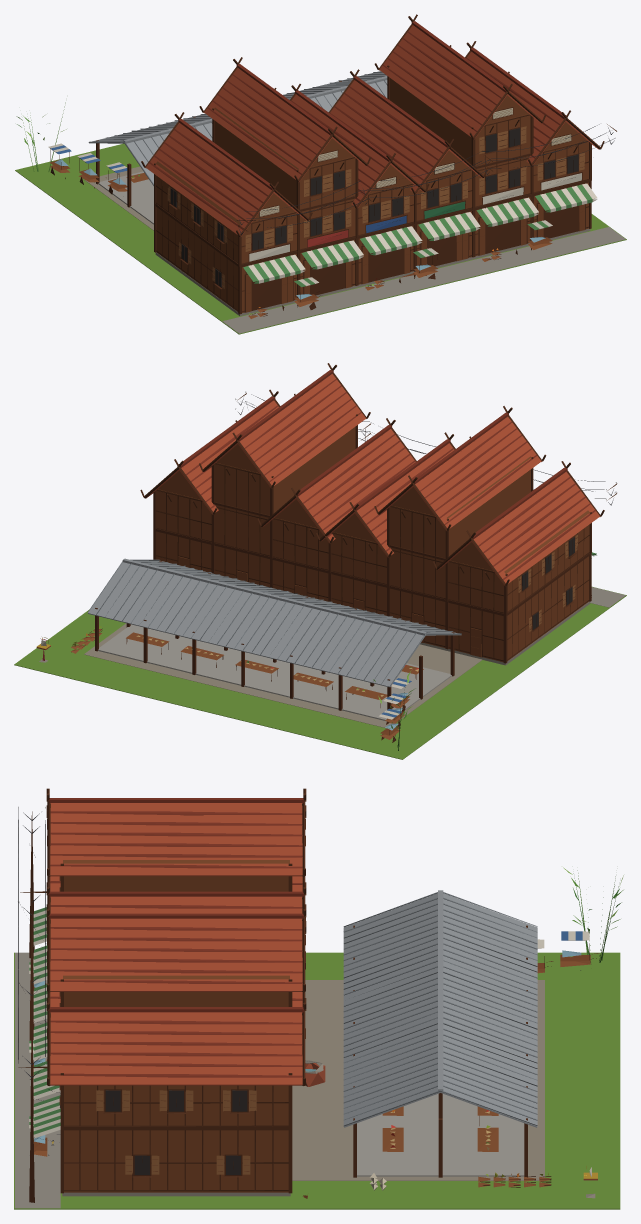
File: shop_5.glb
3 views of the same model, one above another, from view 1: azimuth 30°, elevation 25°; view 2: azimuth 150°, elevation 25°; view 3: azimuth 270°, elevation 25° (orthographic). The views are drawn at different scales.
Parts seen in each view (by area): view 1: body, windows; view 2: body; view 3: body, windows.
Part boxes in pixels (x1,y1,x2,y2): body: [15, 14, 626, 334]; windows: [170, 128, 578, 286]; body: [14, 363, 626, 759]; body: [14, 788, 623, 1209]; windows: [52, 1090, 247, 1174].
Bounding box in the file's own units: 32.14 × 13.65 × 32.26.
